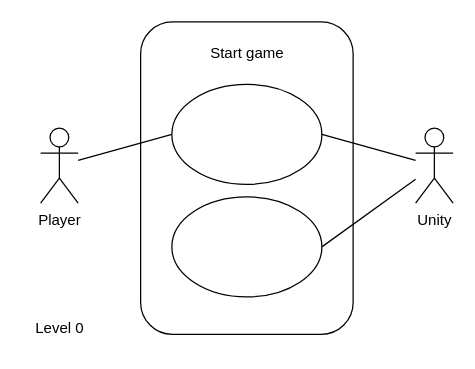
The diagram is 475 pixels wide and 369 high, and some of its shapes have lost their labels. Each missing label, with the centre of its shape:
Start game button: the point at 246,133
Start match: the point at 246,246
